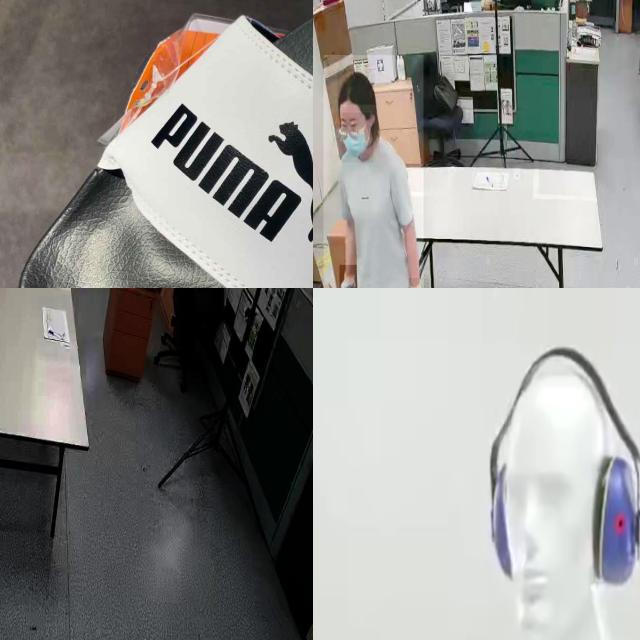Ear-protection: (477, 359, 640, 640)
Sandals: (5, 0, 313, 288)
face_mask: (342, 112, 374, 162)
glasses: (336, 120, 362, 145)
hand_glove: (339, 265, 357, 288)
head_nohelmet: (337, 69, 375, 106)
person: (323, 55, 424, 288)
